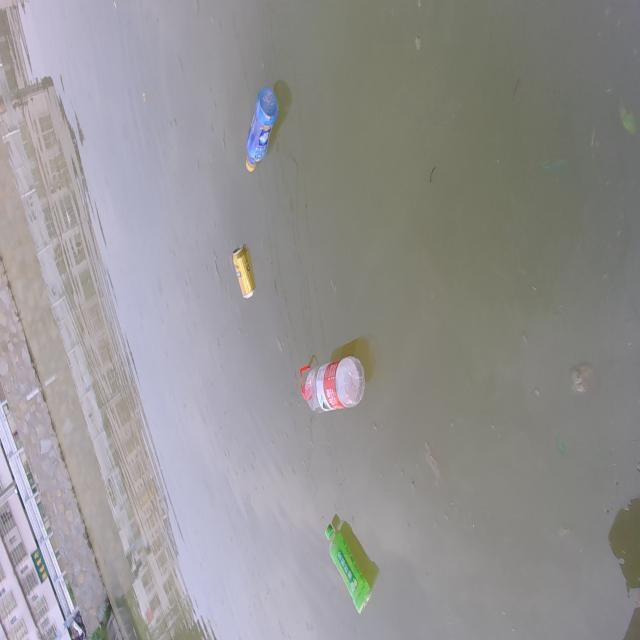bottle: (315, 494, 394, 610), (288, 333, 374, 424), (236, 70, 288, 179)
